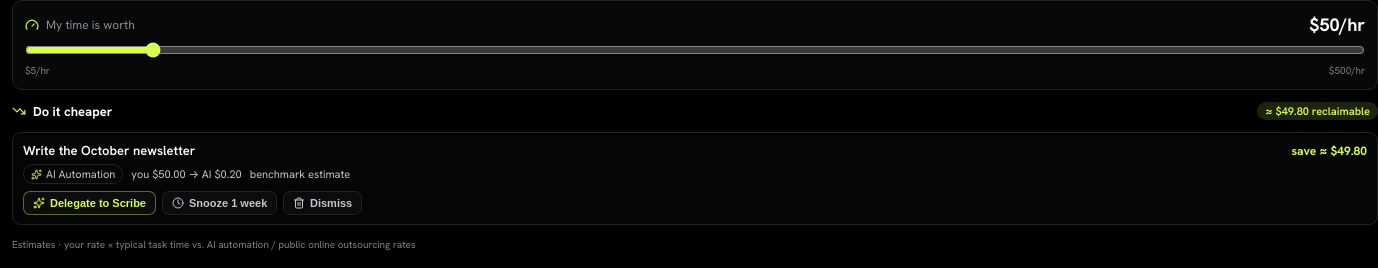
Test: CostAdvisorPanel — Snooze / Dismiss / Undo › snoozing hides the row under Hidden
The width and height of the screenshot is (1378, 268).
Step 1. Click the button with aria-label "Snooze 1 week: Write the October newsletter" → (220, 203), box [162, 191, 277, 215]
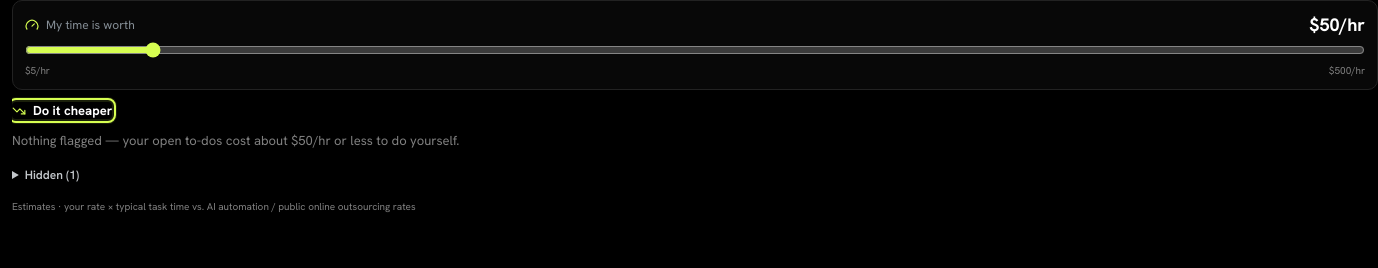
Check: the text "save ≈" is gone
Check: the heading "Hidden (1)" is shown, box [25, 166, 79, 182]
